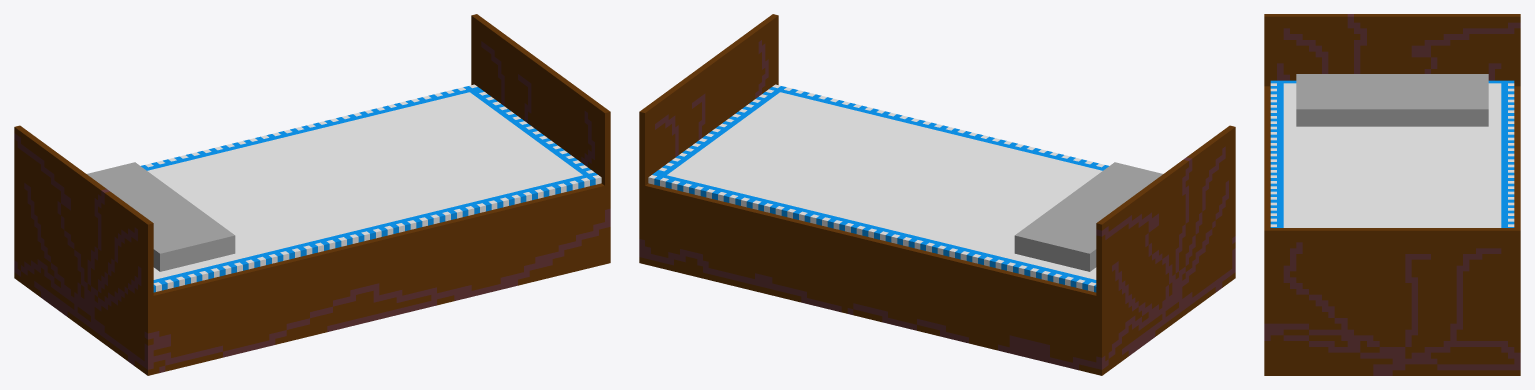
File: bed.vox.obj
3 renders of one model, left to right at view 1: azimuth 30°, elevation 25°; view 2: azimuth 150°, elevation 25°; view 3: azimuth 270°, elevation 25°, orthographic. The views are drawn at different scales.
Size of the model in its own units: 8 by 2.5 by 4.
1 material, 1 textured.
